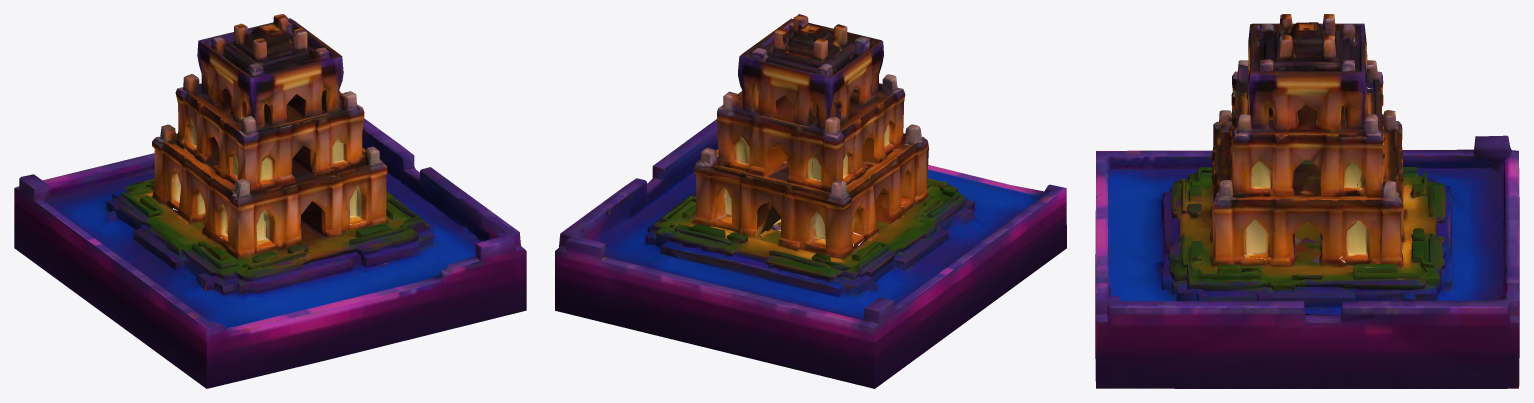
Rendered from ho-guom-v1.glb.
3 views of the same model, side by side, from view 1: azimuth 30°, elevation 25°; view 2: azimuth 150°, elevation 25°; view 3: azimuth 270°, elevation 25° (orthographic). The views are drawn at different scales.
Visible parts, largest first — view 1: textured_mesh.obj, textured_mesh.obj.001; view 2: textured_mesh.obj, textured_mesh.obj.001; view 3: textured_mesh.obj, textured_mesh.obj.001.
Part boxes in pixels (x1,y1,x2,y2): textured_mesh.obj: [14, 14, 526, 388]; textured_mesh.obj.001: [168, 95, 367, 247]; textured_mesh.obj: [555, 14, 1066, 388]; textured_mesh.obj.001: [715, 84, 908, 249]; textured_mesh.obj: [1095, 14, 1519, 388]; textured_mesh.obj.001: [1238, 84, 1386, 268].
Size of the model in its own units: 1.9 by 1.44 by 1.99.
1 material, 1 textured.
